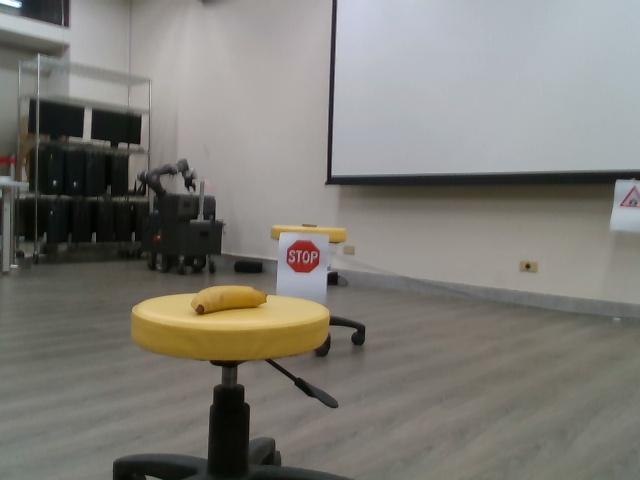banana: (191, 284, 272, 314)
stop: (285, 241, 321, 275)
